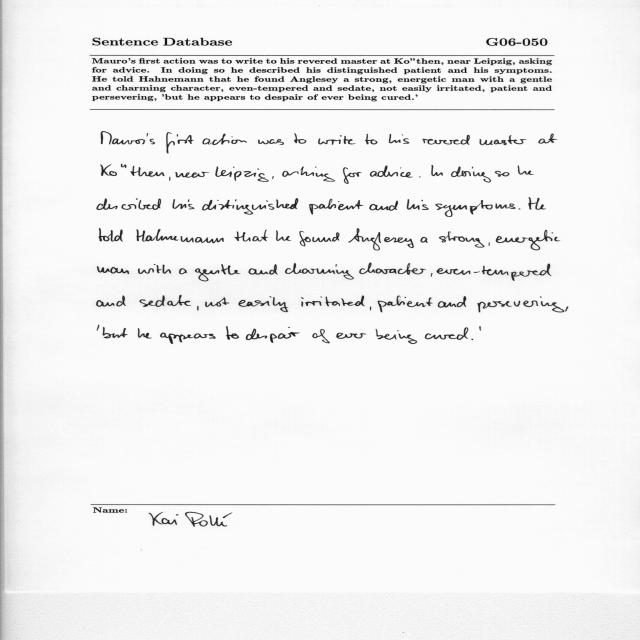word: (436, 264, 551, 281), (202, 198, 299, 215), (348, 229, 414, 251), (478, 297, 565, 313), (435, 200, 516, 217), (496, 230, 560, 250), (136, 229, 224, 243), (285, 263, 354, 280), (378, 296, 432, 313), (215, 166, 269, 182), (246, 327, 300, 343), (101, 164, 165, 177), (309, 199, 364, 214), (359, 263, 426, 275), (239, 297, 289, 313), (282, 167, 335, 182), (195, 264, 240, 281), (439, 232, 484, 248), (97, 199, 161, 210), (301, 296, 365, 307), (101, 132, 155, 145), (451, 167, 491, 183), (139, 295, 191, 307), (166, 132, 194, 154), (160, 333, 216, 344), (376, 329, 417, 344), (300, 231, 340, 246), (370, 165, 413, 178), (425, 327, 468, 340), (202, 134, 247, 145), (422, 135, 470, 145), (479, 135, 526, 145), (318, 135, 356, 145), (234, 230, 268, 241), (97, 295, 126, 307), (438, 296, 466, 308), (138, 264, 171, 274), (249, 264, 278, 275), (99, 229, 123, 242), (343, 167, 361, 184), (369, 201, 398, 211), (102, 327, 128, 338), (97, 266, 129, 274), (312, 329, 330, 343), (173, 199, 195, 210), (407, 199, 429, 210), (205, 297, 229, 307), (529, 197, 547, 210), (176, 172, 210, 178), (389, 134, 409, 144), (538, 134, 558, 144), (226, 326, 239, 340), (336, 333, 366, 339), (276, 230, 291, 241), (518, 165, 534, 175), (258, 139, 284, 145), (138, 328, 151, 339), (294, 133, 306, 144), (365, 134, 377, 145), (431, 165, 443, 176), (495, 171, 510, 177), (420, 237, 428, 243), (179, 269, 187, 275), (565, 307, 569, 312), (97, 325, 99, 331), (479, 326, 481, 331), (488, 242, 490, 246), (197, 306, 199, 310), (272, 176, 274, 179), (169, 177, 170, 181), (519, 208, 521, 210), (431, 273, 432, 277), (370, 307, 371, 311), (419, 177, 421, 178), (471, 339, 473, 340)
